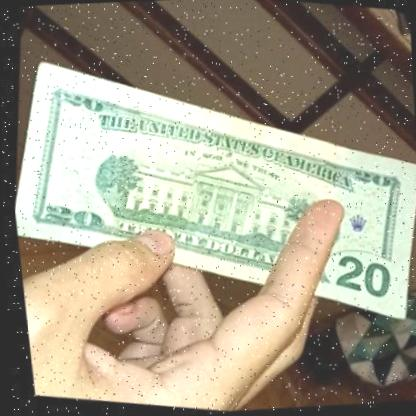twenty-back: (1, 46, 416, 356)
